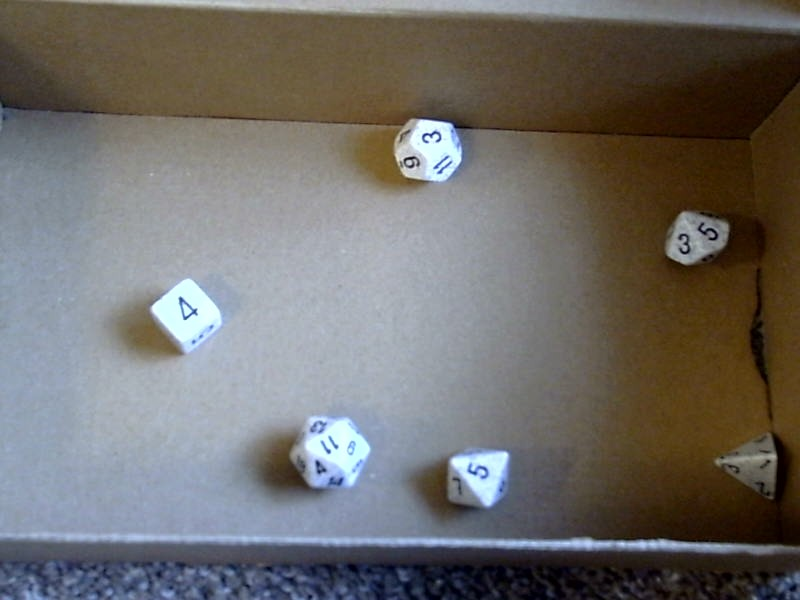d10 5: (652, 201, 738, 274)
d12 3: (382, 109, 474, 193)
d20 11: (278, 403, 375, 498)
d4 1: (707, 424, 784, 507)
d6 4: (134, 265, 232, 360)
d8 5: (437, 438, 518, 517)
